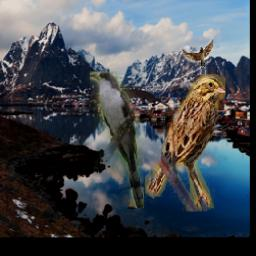Cuckoo: (91, 72, 145, 209)
Sparrow: (146, 74, 226, 211)
Swallow: (183, 36, 214, 76)
